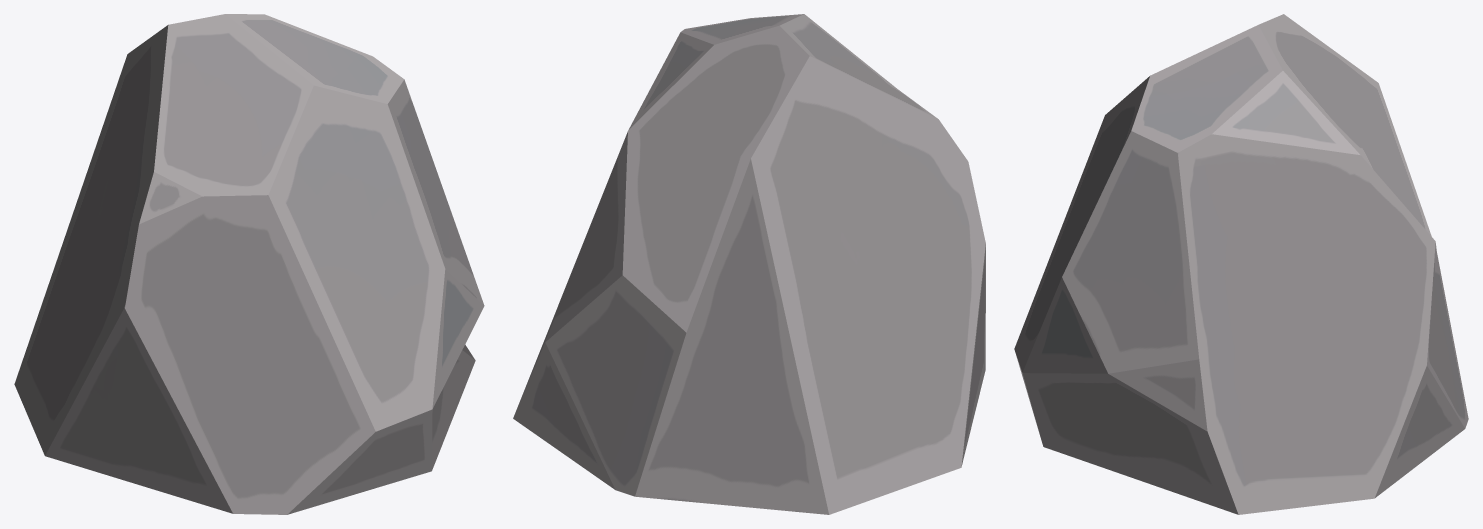
3 renders of one model, left to right at view 1: azimuth 30°, elevation 25°; view 2: azimuth 150°, elevation 25°; view 3: azimuth 270°, elevation 25°, orthographic. The views are drawn at different scales.
Visible parts, largest first — view 1: Rock01; view 2: Rock01; view 3: Rock01.
Boxes of the visible parts, <box> form: Rock01: <box>14,14,484,514</box>; Rock01: <box>513,14,985,514</box>; Rock01: <box>1014,14,1468,514</box>.
Bounding box in the file's own units: 194 × 175 × 191.
